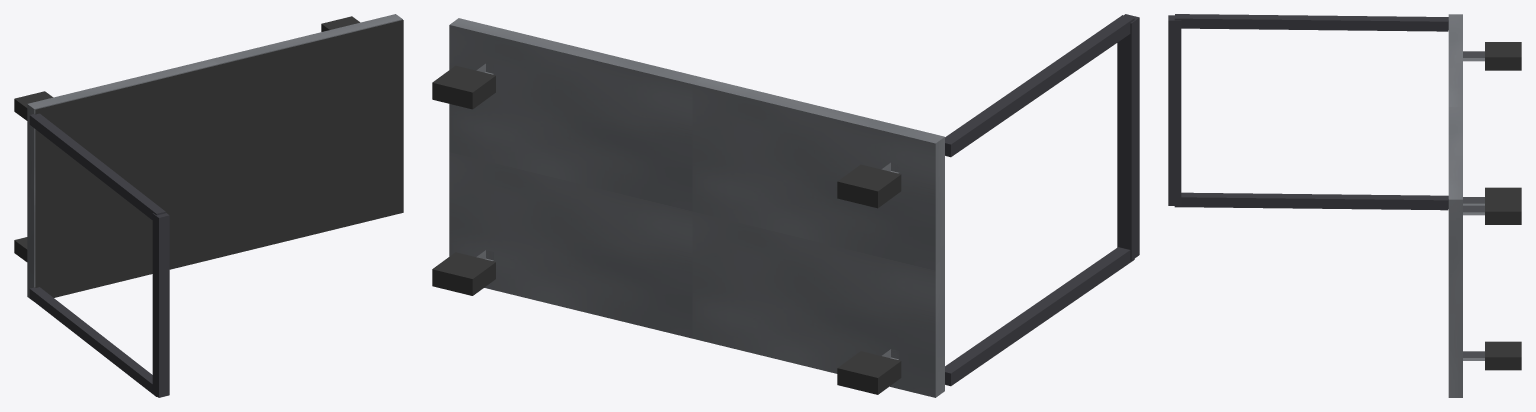
Rendered from platform_truck.gltf.
The picture shows the model from 3 angles, left to right: view 1: azimuth 30°, elevation 25°; view 2: azimuth 150°, elevation 25°; view 3: azimuth 270°, elevation 25°; orthographic projection. The views are drawn at different scales.
Visible parts, largest first — view 1: platform_truck; view 2: platform_truck; view 3: platform_truck.
Part boxes in pixels (x1,y1,x2,y2): platform_truck: (14, 14, 403, 397); platform_truck: (432, 14, 1139, 397); platform_truck: (1168, 14, 1521, 397).
Size of the model in its own units: 1.24 by 0.6 by 0.9675.
Materials: 3 (1 with a texture image).
